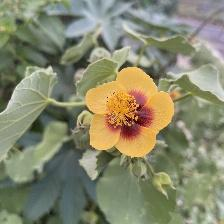indian mallow: (85, 66, 177, 160)
